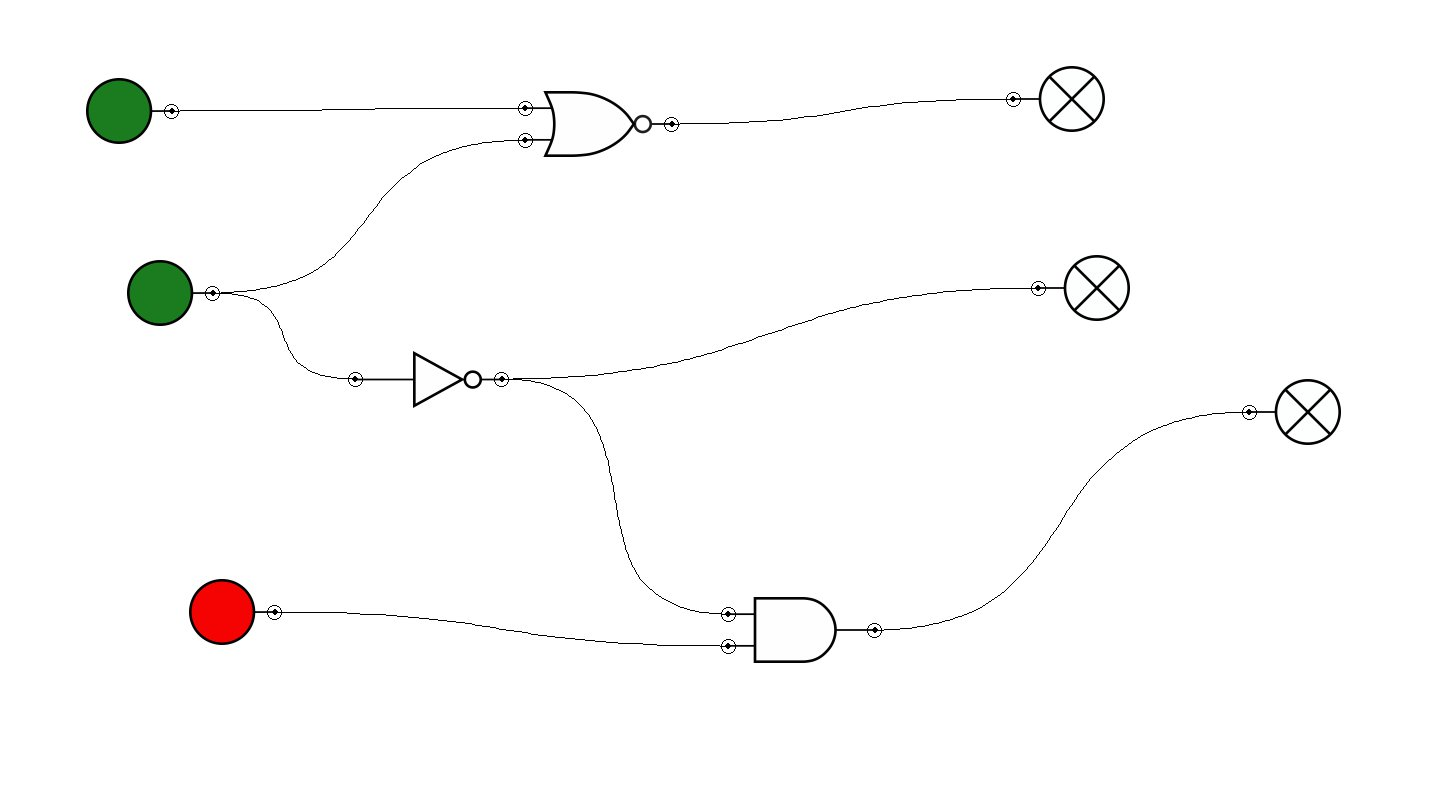and: (721, 597, 882, 663)
bulb: (1006, 66, 1105, 132), (1031, 255, 1130, 321), (1242, 379, 1341, 445)
nor: (518, 91, 679, 157)
not: (348, 351, 509, 408)
switch_False: (189, 579, 282, 645)
switch_True: (127, 260, 220, 326), (86, 78, 179, 144)
